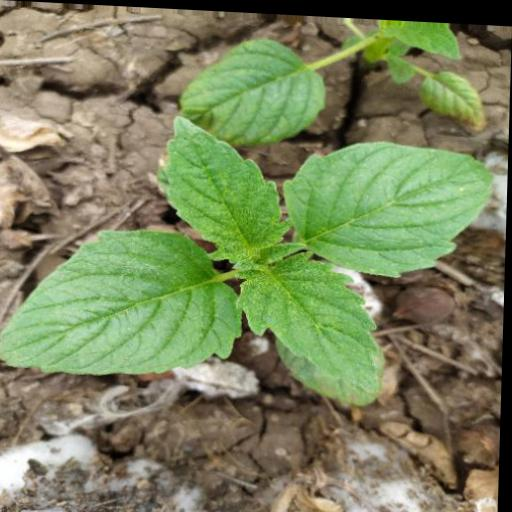crop: (2, 96, 510, 407)
